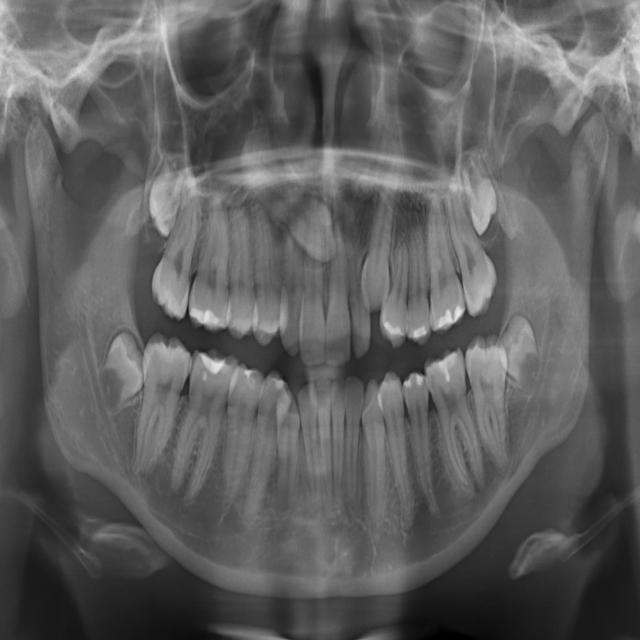3M ESPE Implant: (141, 155, 188, 238)
AGS Medikal Implant: (341, 194, 372, 359)
AMerOss Implant: (360, 149, 403, 314)
Amalgam filling: (379, 242, 408, 348)
Anthogyr Implant: (408, 225, 432, 345)
Bicon Implant: (427, 195, 466, 333)
BioHorizons Implant: (439, 180, 505, 319)
BioLife Implant: (453, 146, 507, 239)
Biomet 3i Implant: (500, 311, 545, 397)
Blue Sky Bio Implant: (463, 333, 513, 476)
Camlog Implant: (421, 346, 499, 500)
Caries: (186, 211, 186, 212)
Composite filling: (402, 369, 447, 521)
Cowellmedi Implant: (378, 370, 419, 523)
Crown: (359, 378, 389, 525)
DENTSPLY Implant: (346, 375, 364, 502)
Dentatus Implant: (331, 378, 346, 495)
Dentis Implant: (316, 378, 334, 502)
Dentium Implant: (297, 381, 323, 520)
Euroteknika Implant: (271, 388, 303, 522)
Filling: (235, 368, 291, 517)
Frontier Implant: (207, 360, 265, 519)
Hiossen Implant: (188, 194, 230, 334)
Implant: (159, 417, 159, 418)
Implant Direct: (166, 343, 240, 506)
Keystone Dental Implant: (97, 332, 143, 412)
MIS Implant: (228, 206, 255, 339)
Mandible: (254, 201, 280, 345)
Maxilla: (229, 134, 355, 267)
Megagen Implant: (277, 230, 305, 357)
Neodent Implant: (299, 253, 325, 366)
Neoss Implant: (324, 215, 351, 367)
